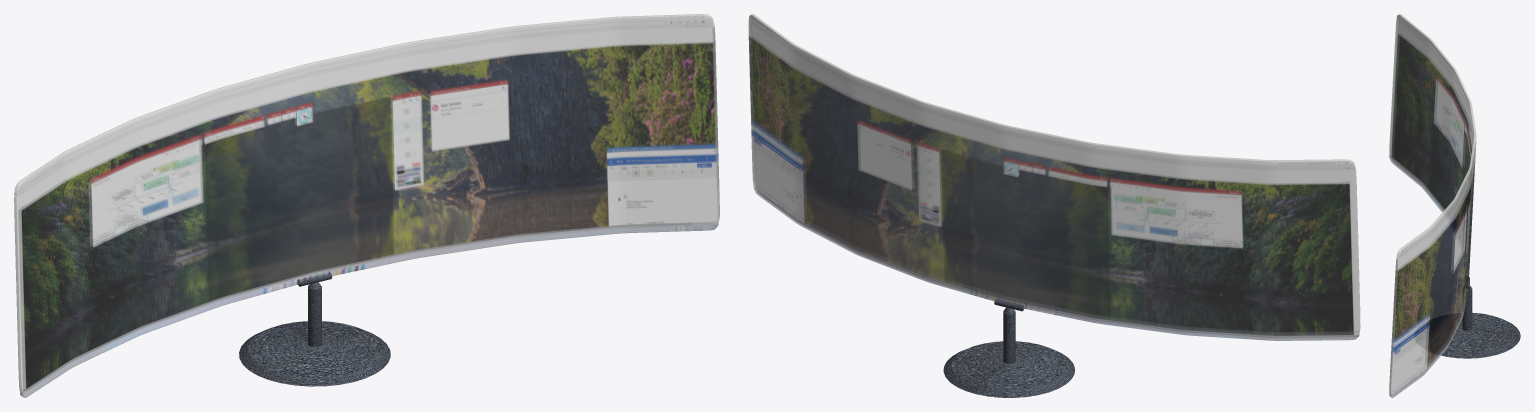
The model's file is futureScreen3.glb.
3 renders of one model, left to right at view 1: azimuth 30°, elevation 25°; view 2: azimuth 150°, elevation 25°; view 3: azimuth 270°, elevation 25°, orthographic. The views are drawn at different scales.
Parts seen in each view (by area): view 1: screen.002, foot.002; view 2: screen.002, foot.002; view 3: screen.002, foot.002.
Boxes of the visible parts, <box> form: screen.002: <box>14,14,719,397</box>; foot.002: <box>239,272,390,386</box>; screen.002: <box>748,14,1360,340</box>; foot.002: <box>943,299,1074,397</box>; screen.002: <box>1389,14,1476,397</box>; foot.002: <box>1415,276,1520,358</box>.
Bounding box in the file's own units: 2.12 × 0.8422 × 0.492.
2 materials, 2 textured.
